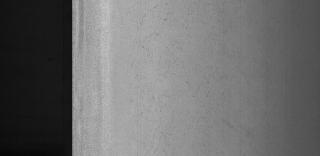silk spot: (132, 13, 215, 143)
